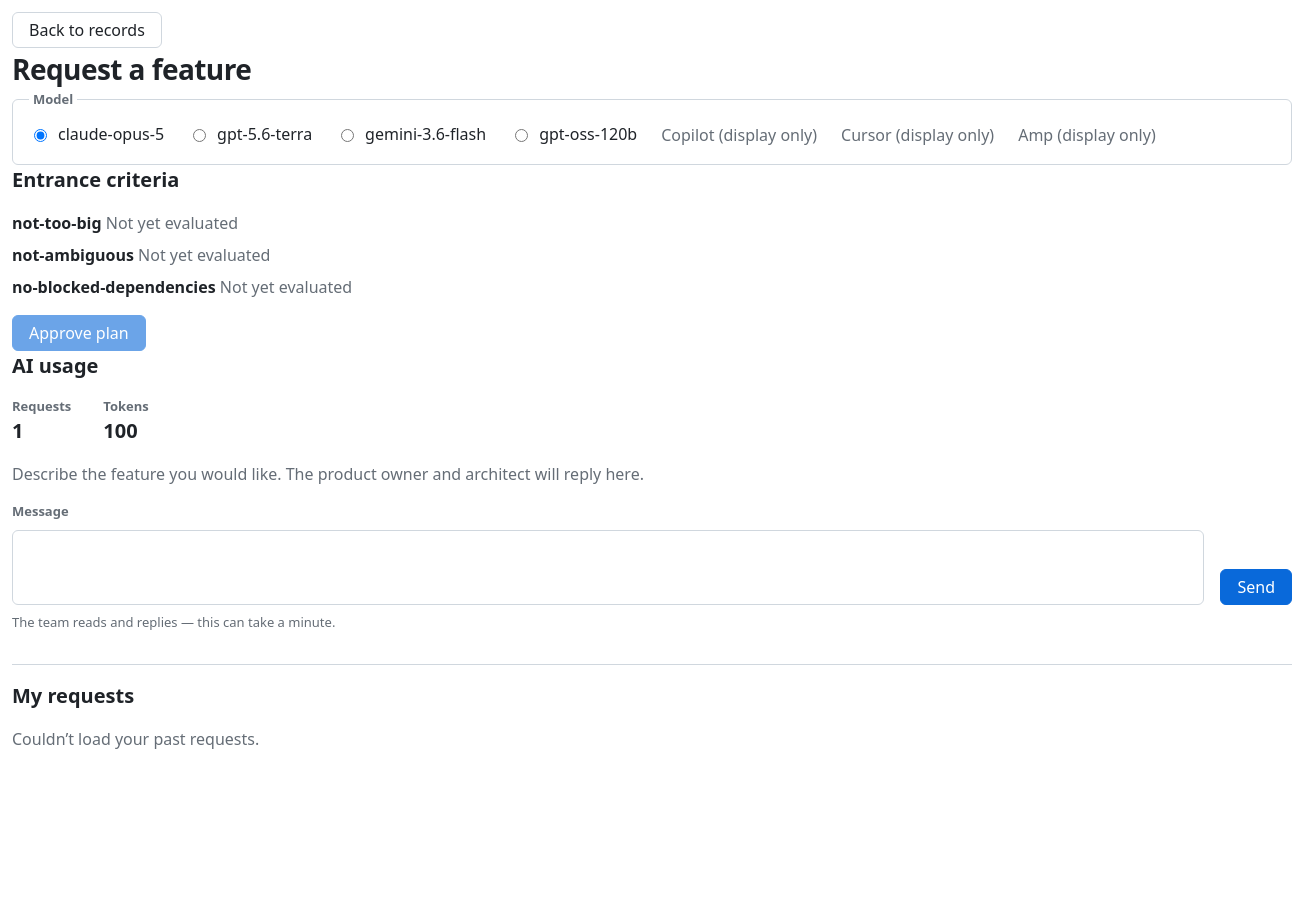
Test: DAN-54 tester · criterion 4: quota exhaustion vs other errors › QUOTA_EXHAUSTED from sendFeatureRequestMessage shows the friendly panel, hides the raw message, and disables the input
Expected: the text "Requests" is shown, [12,396,71,416]
Type "Export the table as CSV" into the text box labelled "Message" at (608, 567), box [12,530,1204,604]
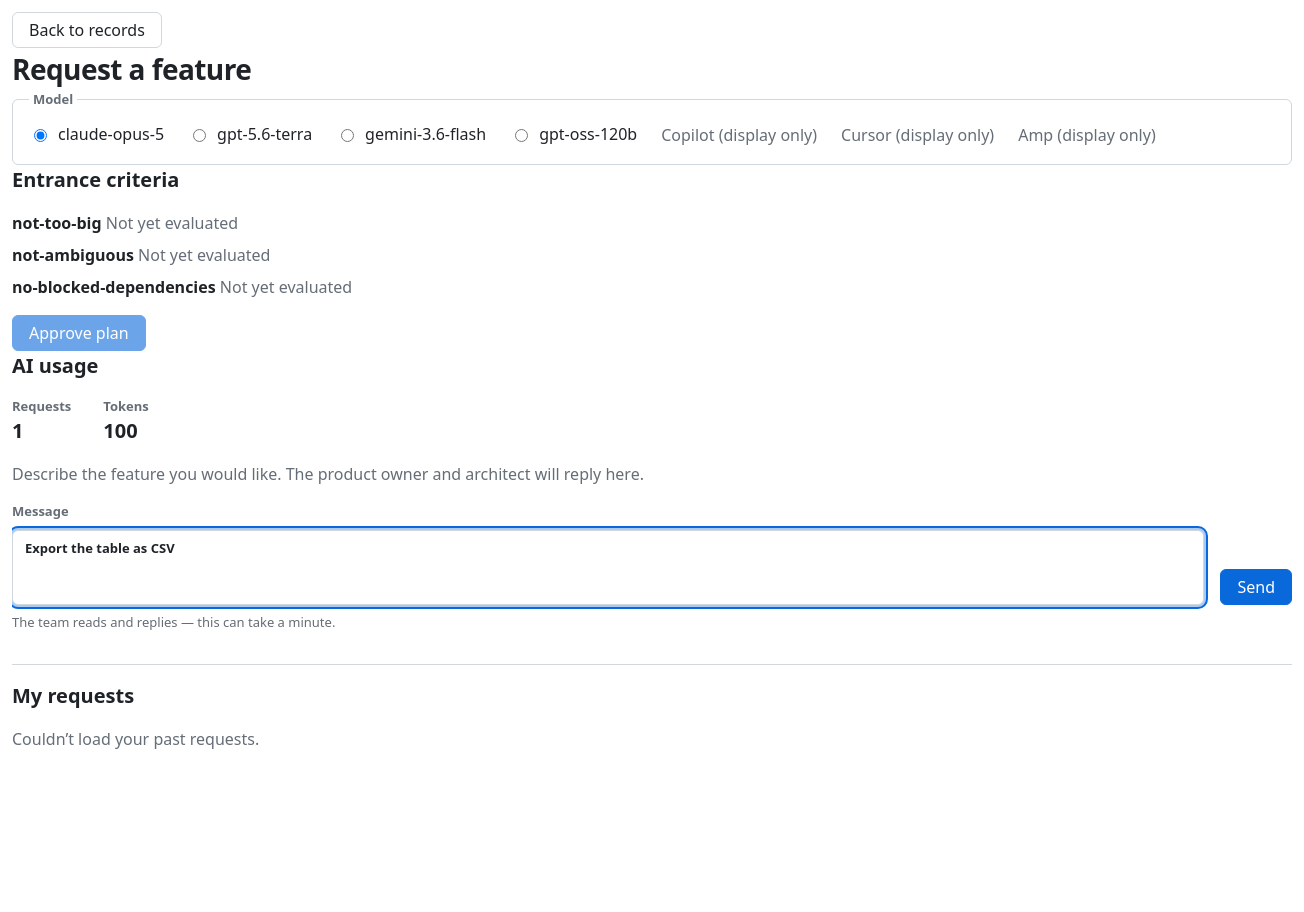
Click the button "Send" at (1256, 586), box [1220,568,1292,604]
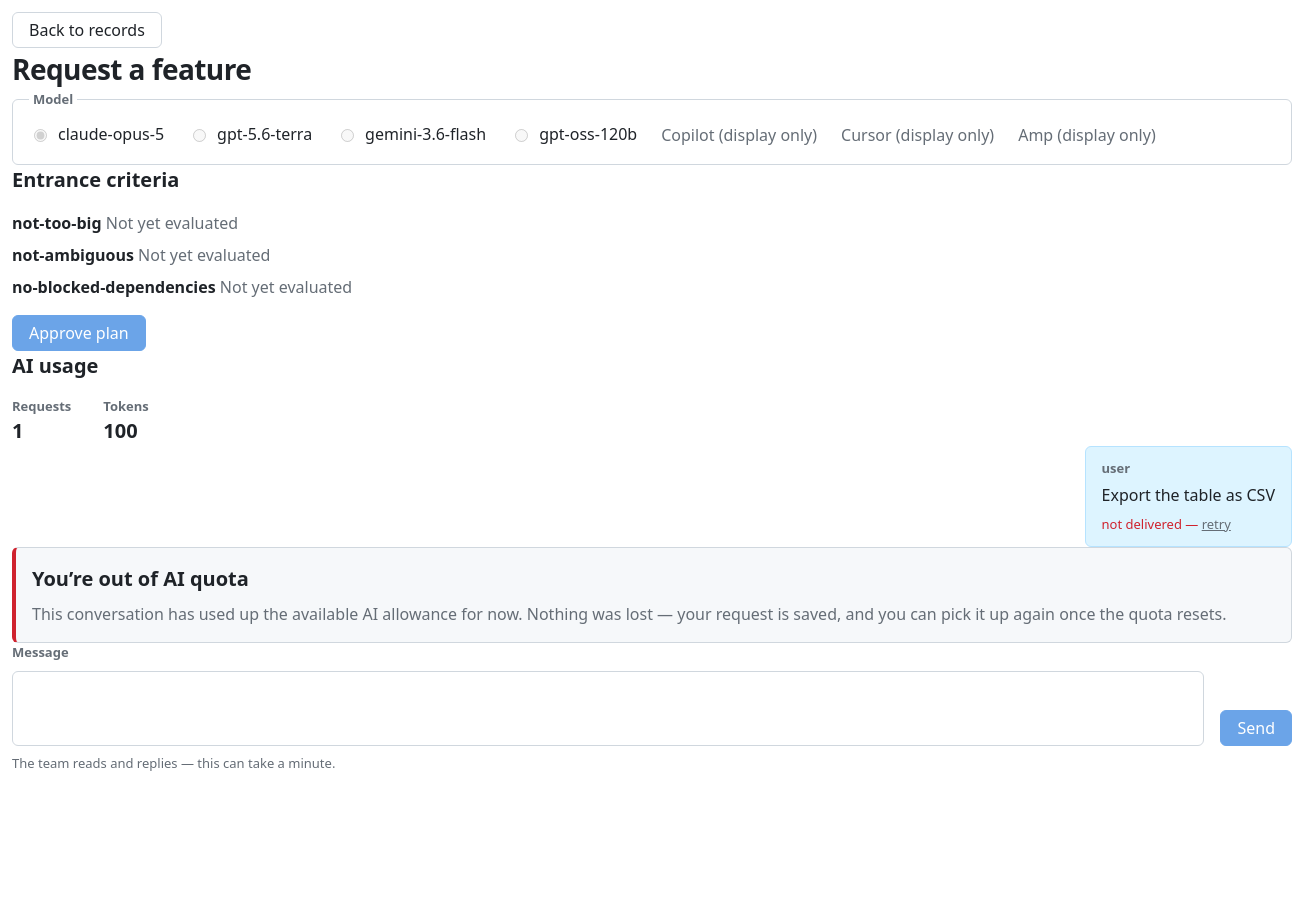
Now the message shows "quota", box [32,565,249,592]
Now the text box labelled "Message" is disabled, box [12,670,1204,746]
Now the button "Send" is disabled, box [1220,710,1292,746]
